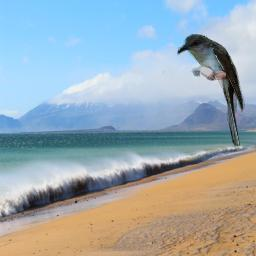Cuckoo: (177, 34, 245, 146)
